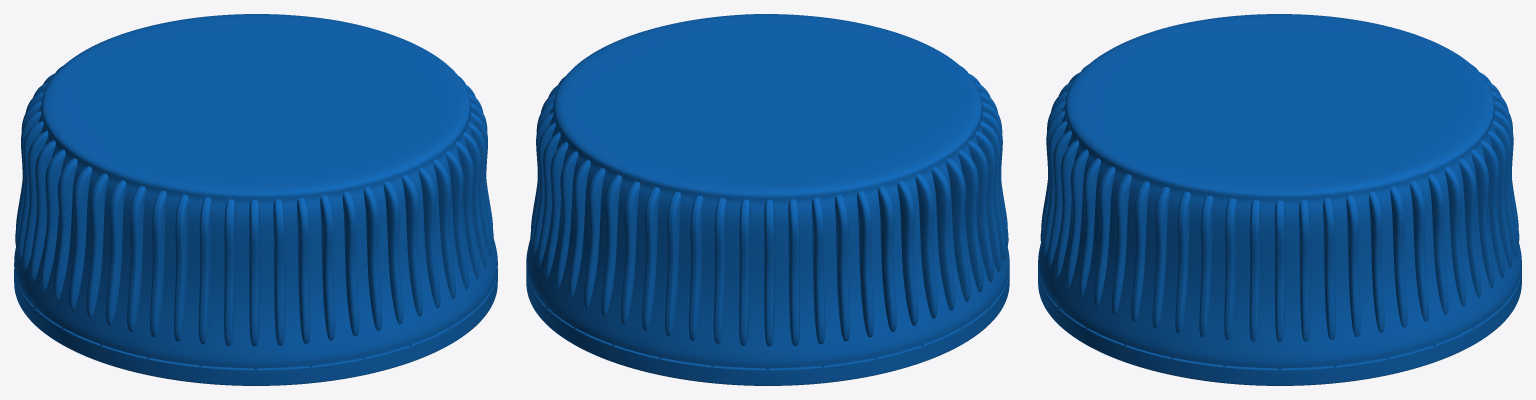
The model's file is plastic_cap.glb.
3 renders of one model, left to right at view 1: azimuth 30°, elevation 25°; view 2: azimuth 150°, elevation 25°; view 3: azimuth 270°, elevation 25°, orthographic.
Visible parts, largest first — view 1: Object_5, Object_4, Object_3, Object_2; view 2: Object_5, Object_3, Object_2, Object_4; view 3: Object_5, Object_3, Object_2, Object_4.
Part boxes in pixels (bbox=[...]): Object_5: bbox=[14, 14, 497, 368]; Object_4: bbox=[73, 166, 381, 346]; Object_3: bbox=[15, 66, 493, 324]; Object_2: bbox=[14, 268, 497, 385]; Object_5: bbox=[526, 14, 1009, 368]; Object_3: bbox=[530, 76, 993, 346]; Object_2: bbox=[526, 270, 1009, 385]; Object_4: bbox=[961, 66, 1008, 271]; Object_5: bbox=[1038, 14, 1521, 368]; Object_3: bbox=[1042, 65, 1519, 342]; Object_2: bbox=[1038, 268, 1521, 385]; Object_4: bbox=[1040, 65, 1087, 246].
Bounding box in the file's own units: 4.66 × 1.94 × 4.66.
